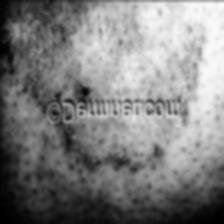Toxin: (2, 0, 208, 90), (51, 122, 192, 169)
